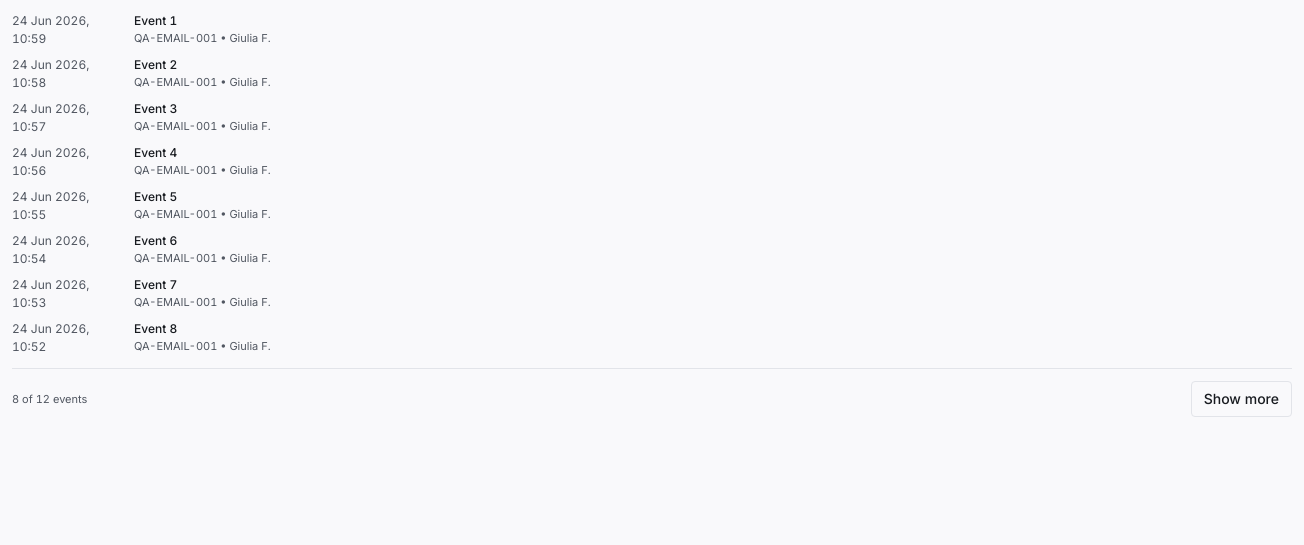
Scenario: UltimiEventi › lets you show more events beyond the initial limit
expect the text "Event 1" is shown: met, box [134,13,177,28]
expect the text "Event 8" is shown: met, box [134,321,177,336]
Click the button "Show more" at (1241, 399), box [1191,381,1292,417]
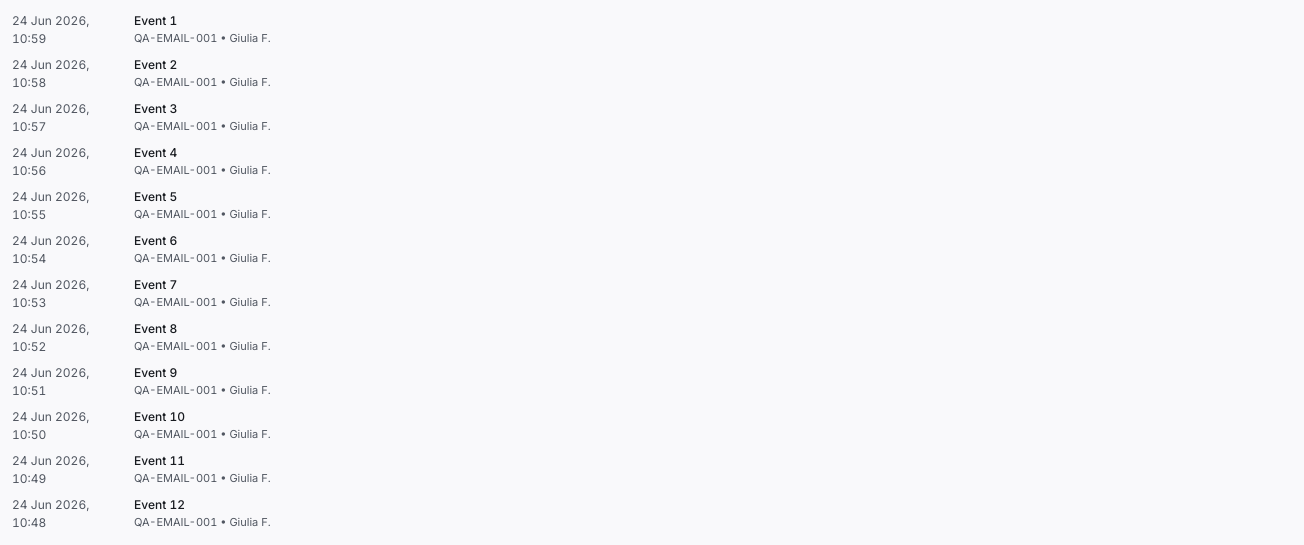
expect the text "Event 9" is shown: met, box [134,365,177,380]
expect the text "Event 12" is shown: met, box [134,497,185,512]
expect the button "Show more" is gone: met
